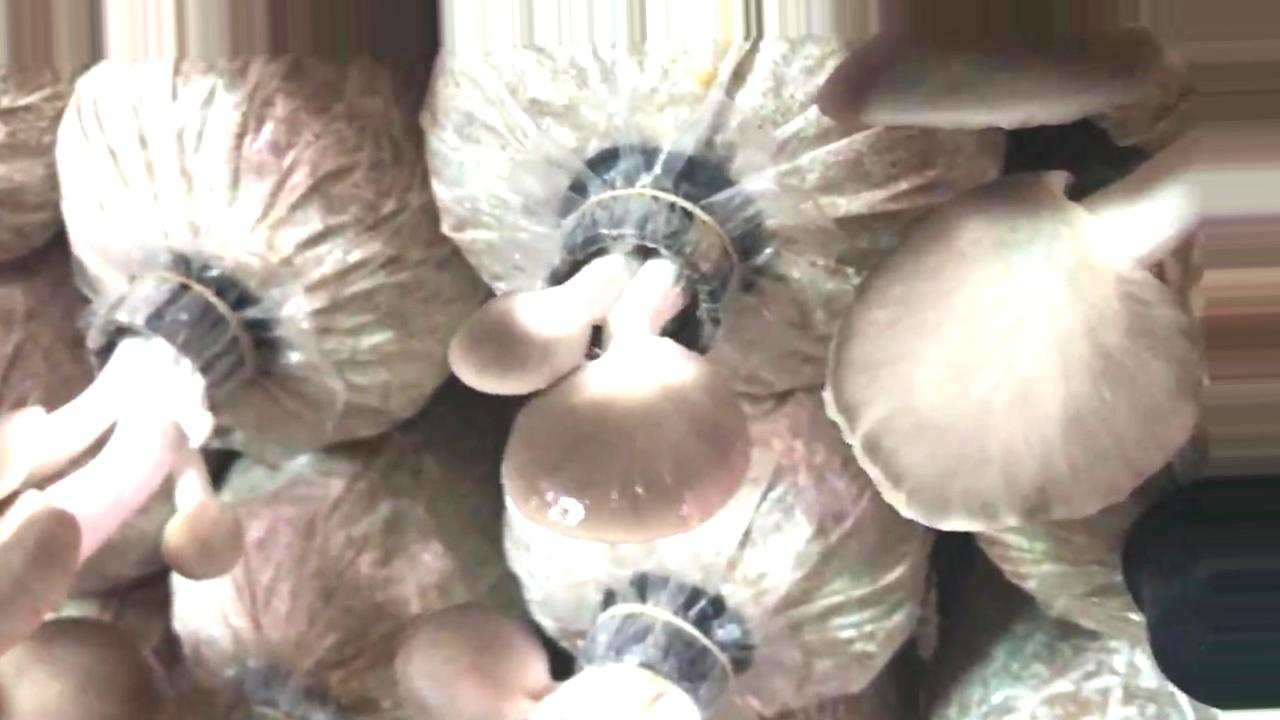nam: (813, 4, 1280, 539), (443, 182, 764, 549), (1, 273, 267, 654), (396, 587, 727, 720)
